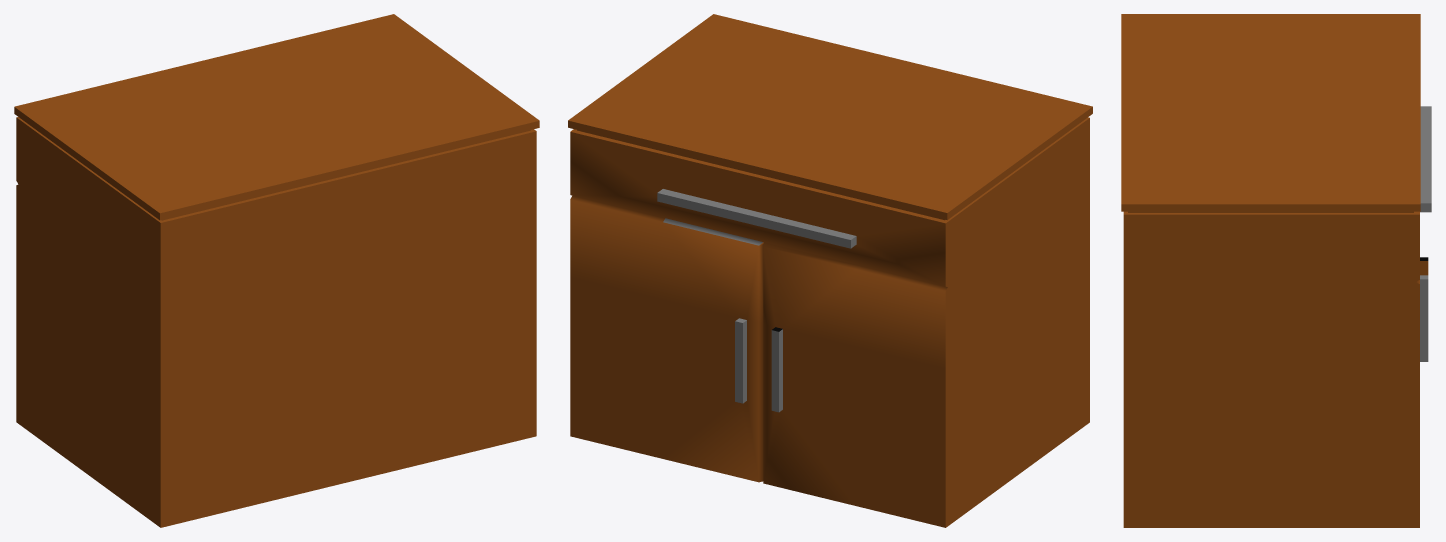
Rendered from cabinet.fbx.
3 renders of one model, left to right at view 1: azimuth 30°, elevation 25°; view 2: azimuth 150°, elevation 25°; view 3: azimuth 270°, elevation 25°, orthographic. The views are drawn at different scales.
Parts seen in each view (by area): view 1: Box016; view 2: Box016; view 3: Box016.
Boxes of the visible parts, x1=… form: Box016: x1=14, y1=14, x2=539, y2=527; Box016: x1=568, y1=14, x2=1092, y2=527; Box016: x1=1121, y1=14, x2=1431, y2=527.
Bounding box in the file's own units: 103 × 82.08 × 71.17.
